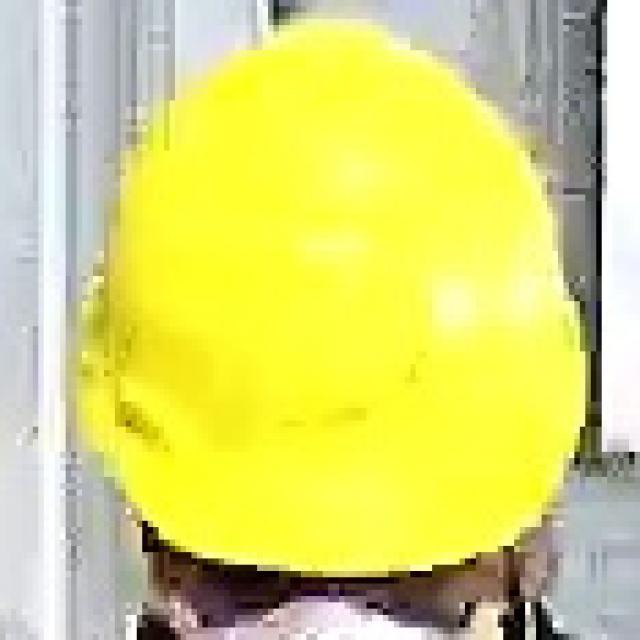yellow helmet: (59, 11, 605, 604)
